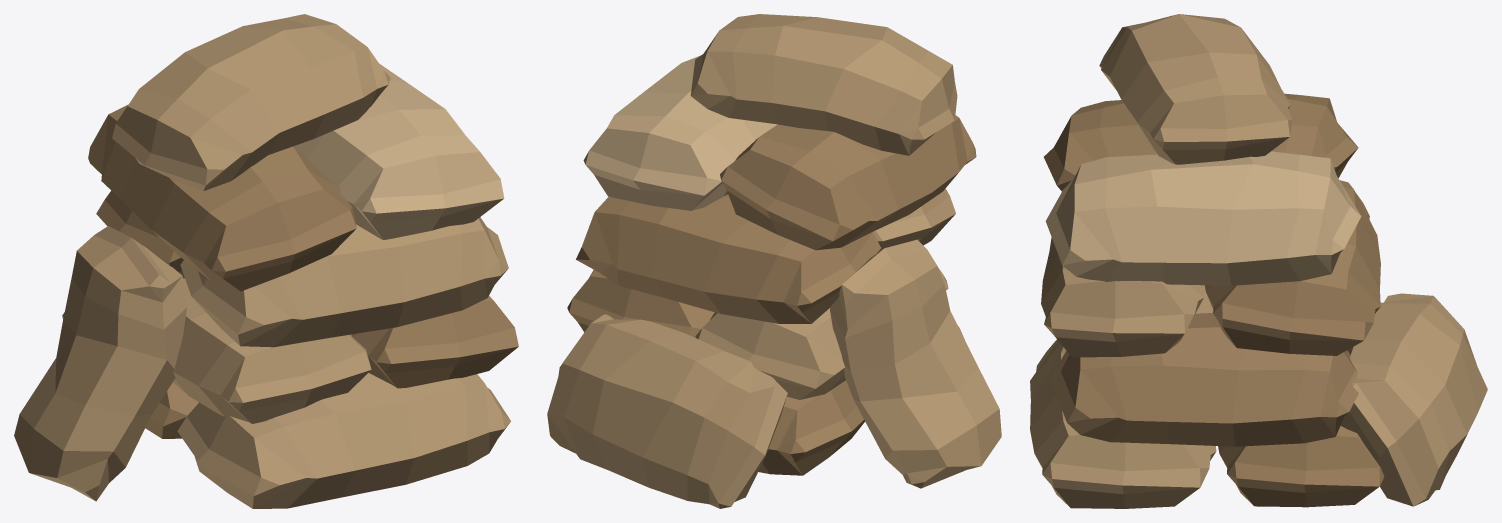
The model's file is SM_Gen_Prop_Sack_Stack_01.glb.
3 views of the same model, side by side, from view 1: azimuth 30°, elevation 25°; view 2: azimuth 150°, elevation 25°; view 3: azimuth 270°, elevation 25° (orthographic). The views are drawn at different scales.
Visible parts, largest first — view 1: SM_Gen_Prop_Sack_Stack_01; view 2: SM_Gen_Prop_Sack_Stack_01; view 3: SM_Gen_Prop_Sack_Stack_01.
Part boxes in pixels (x1,y1,x2,y2): SM_Gen_Prop_Sack_Stack_01: (14, 14, 518, 508); SM_Gen_Prop_Sack_Stack_01: (547, 14, 1001, 508); SM_Gen_Prop_Sack_Stack_01: (1030, 14, 1487, 508).
Size of the model in its own units: 1 by 0.9622 by 0.9988.
Materials: 1 (1 with a texture image).
